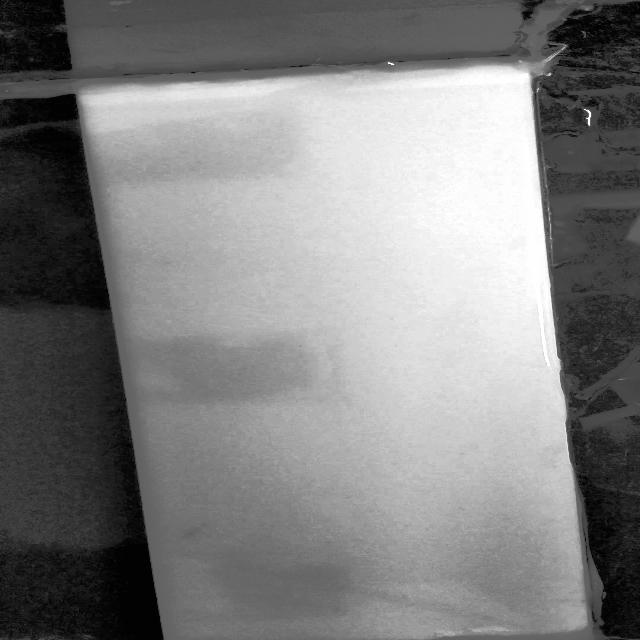shrimp: (176, 517, 219, 542)
